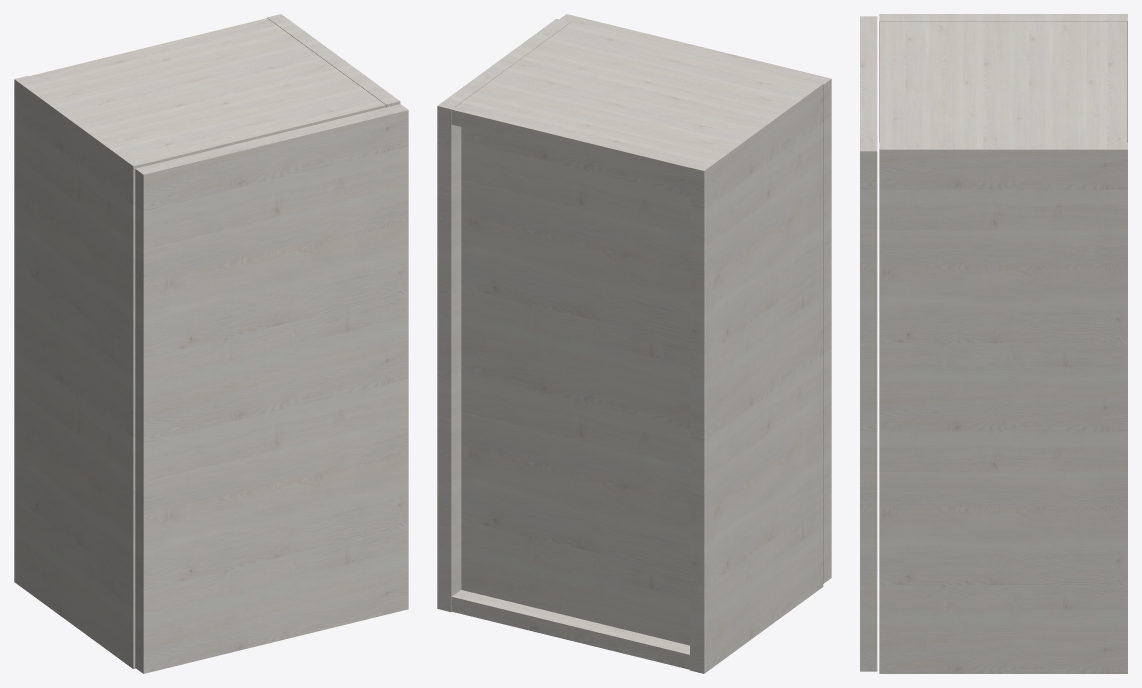
The model's file is coquetaalliance.glb.
3 renders of one model, left to right at view 1: azimuth 30°, elevation 25°; view 2: azimuth 150°, elevation 25°; view 3: azimuth 270°, elevation 25°, orthographic. The views are drawn at different scales.
Visible parts, largest first — view 1: coqueta alliance.001; view 2: coqueta alliance.001; view 3: coqueta alliance.001.
Part boxes in pixels (x1,y1,x2,y2): coqueta alliance.001: (14, 14, 408, 673); coqueta alliance.001: (437, 14, 831, 673); coqueta alliance.001: (860, 14, 1127, 673).
Bounding box in the file's own units: 0.3 × 0.54 × 0.25.
Materials: 1 (1 with a texture image).
